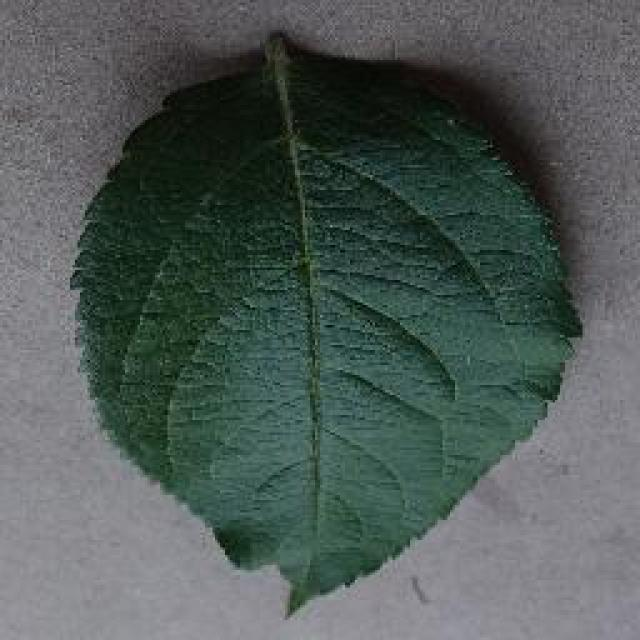apple healthy: (67, 28, 585, 618)
